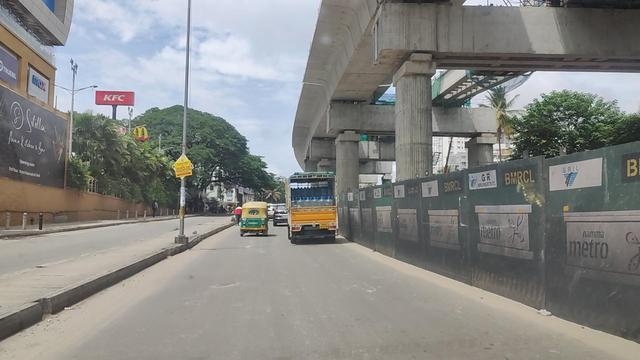HMV: (281, 171, 343, 251)
LMV: (232, 201, 264, 238)
RoadDamages: (209, 280, 242, 294)
